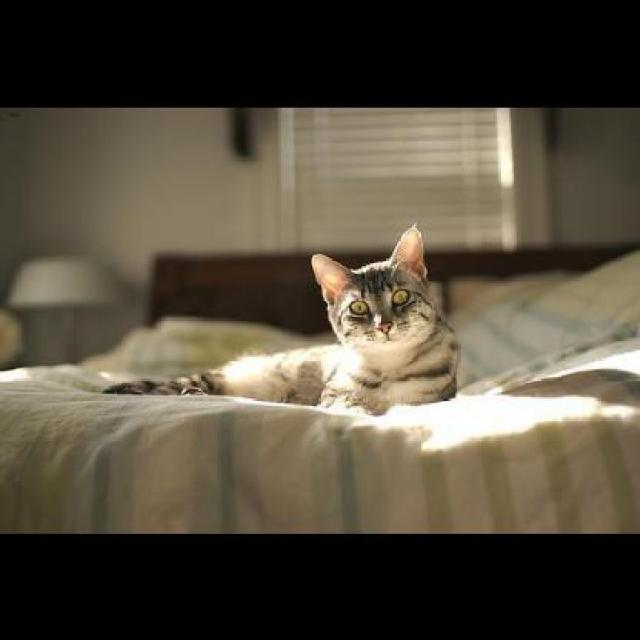unauthorized: (102, 222, 460, 416)
